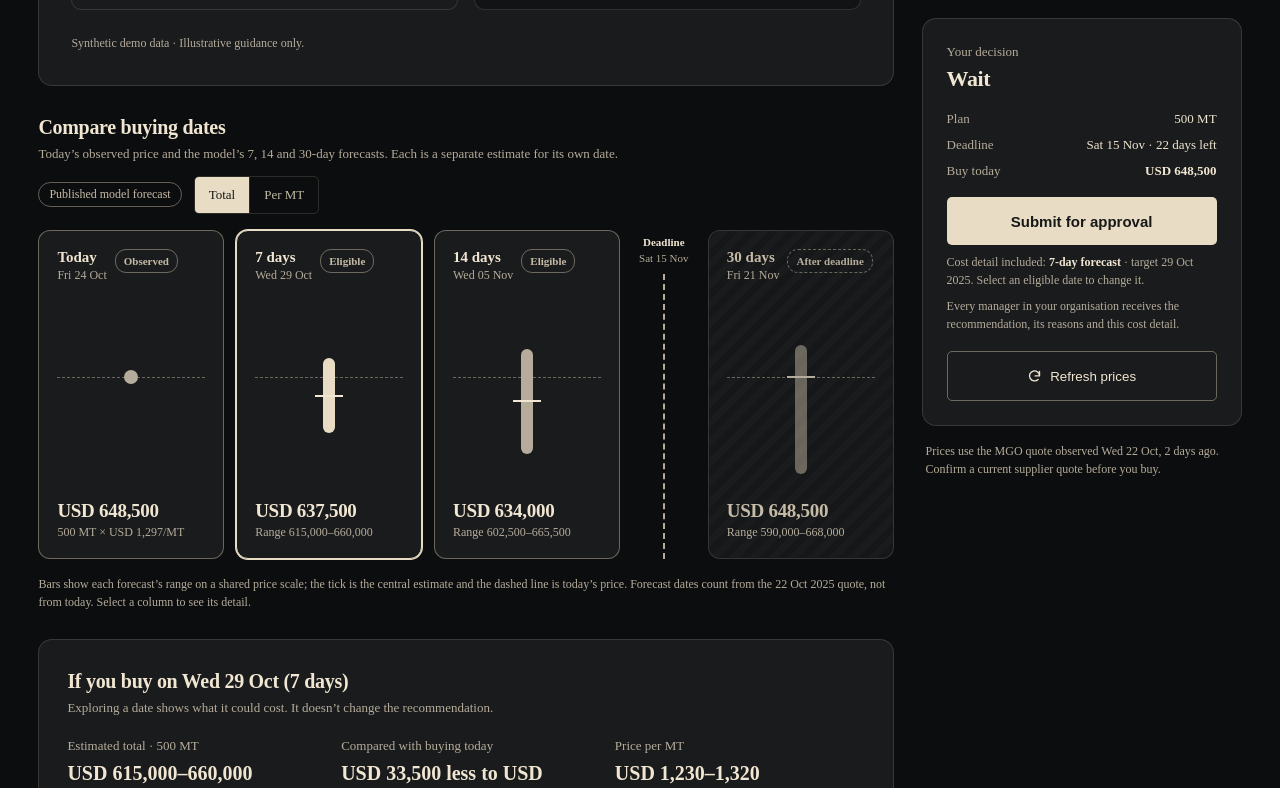
keeps one plan recommendation while selecting the forecast cost detail for approval
(page scrolled)
Expected: the button "Submit for approval" is shown, [947,197,1217,245]
Click the button "14 days". click: point(527, 394)
box: [434,230,620,559]
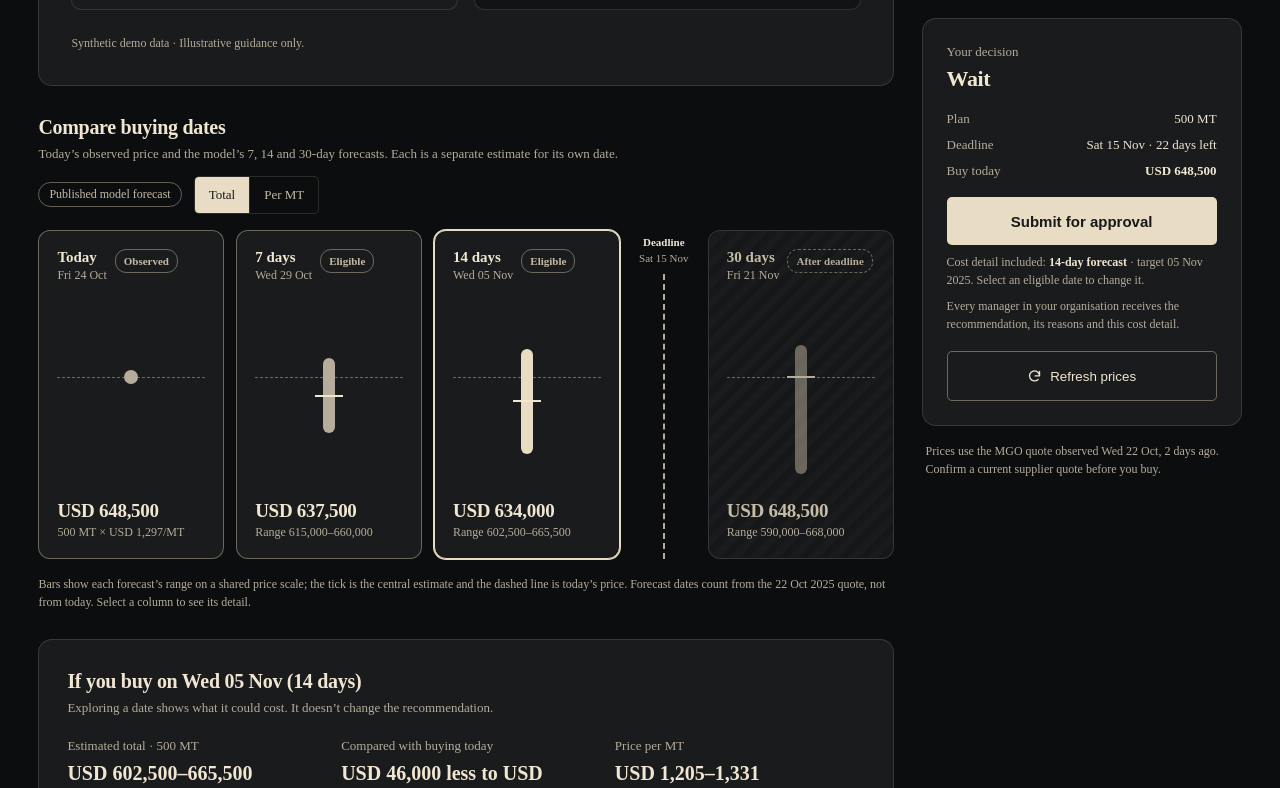
Expected: the text "Cost detail included:" is shown, [947,255,1049,269]
Now the text "14-day forecast" is shown, box [1049,255,1127,269]
Click the button "Submit for approval". click: point(1082, 221)
box: [947,197,1217,245]
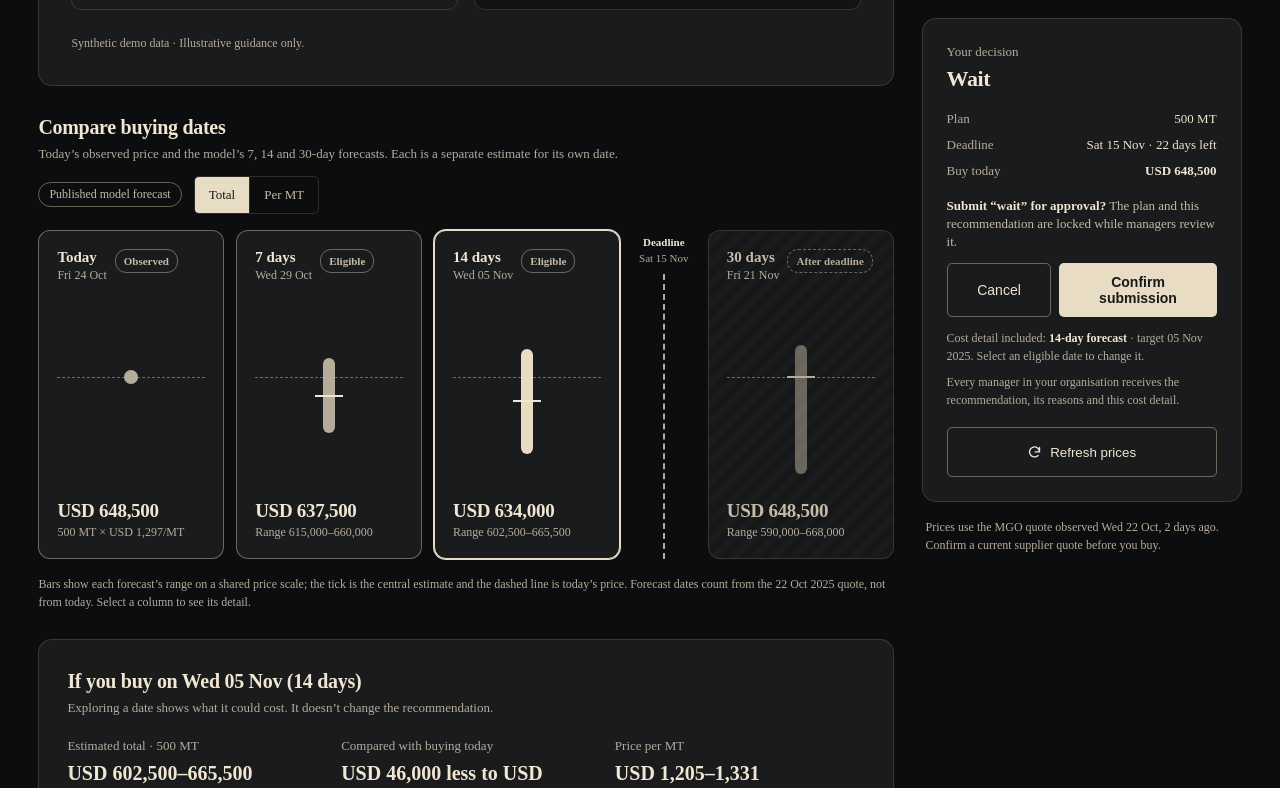
Click the button "Confirm submission". click: point(1138, 290)
box: [1059,263,1217,317]
(page scrolled)
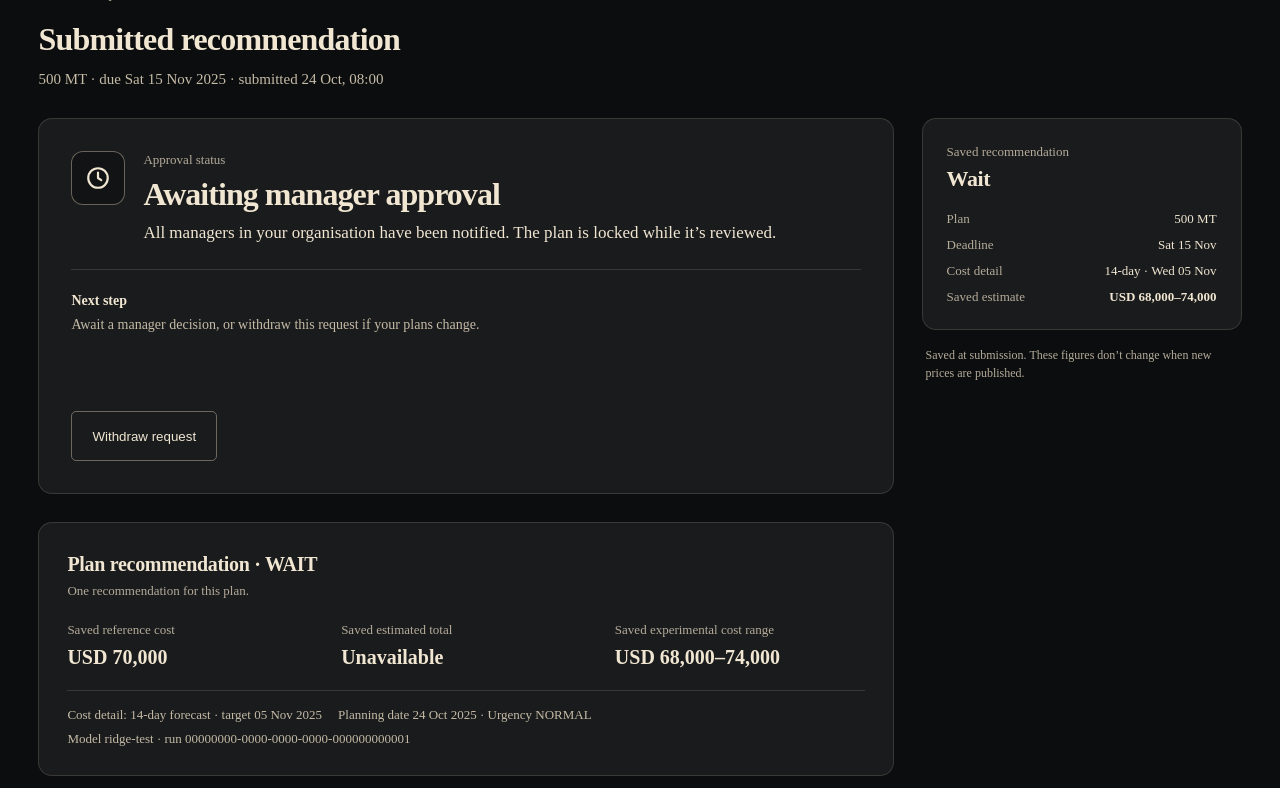
Now the heading "Submitted recommendation" is shown, box [38,21,400,57]
